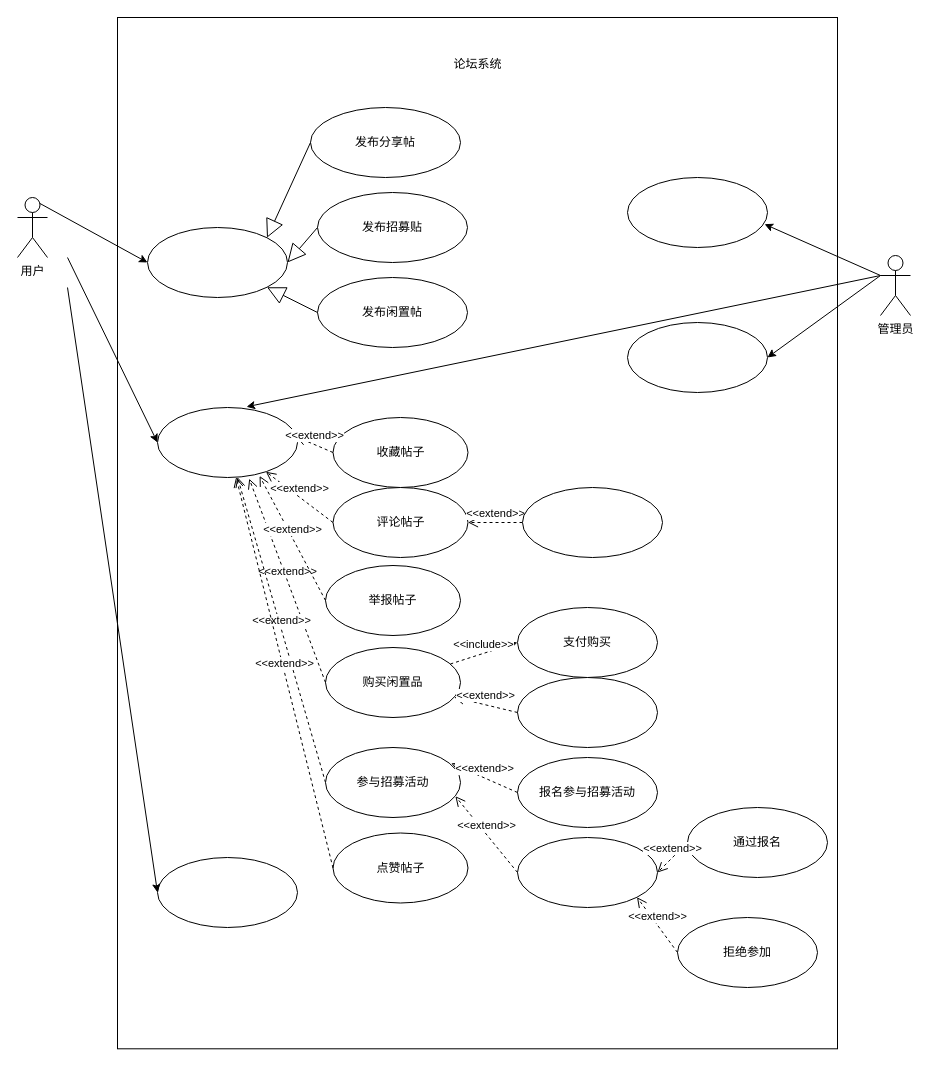
Image size: 931x1067. Some labels were removed from this diagram. The shapes that lost their labels are listed below. From the top down, each one's centre as x and y in pixels, then its label:
point (697, 212): 审核帖子
point (217, 262): 发布帖子
point (697, 357): 审核举报
point (227, 442): 查看帖子
point (592, 522): 举报评论
point (587, 712): 查看订单
point (227, 892): 搜索帖子
point (587, 872): 帖主审核报名情况
